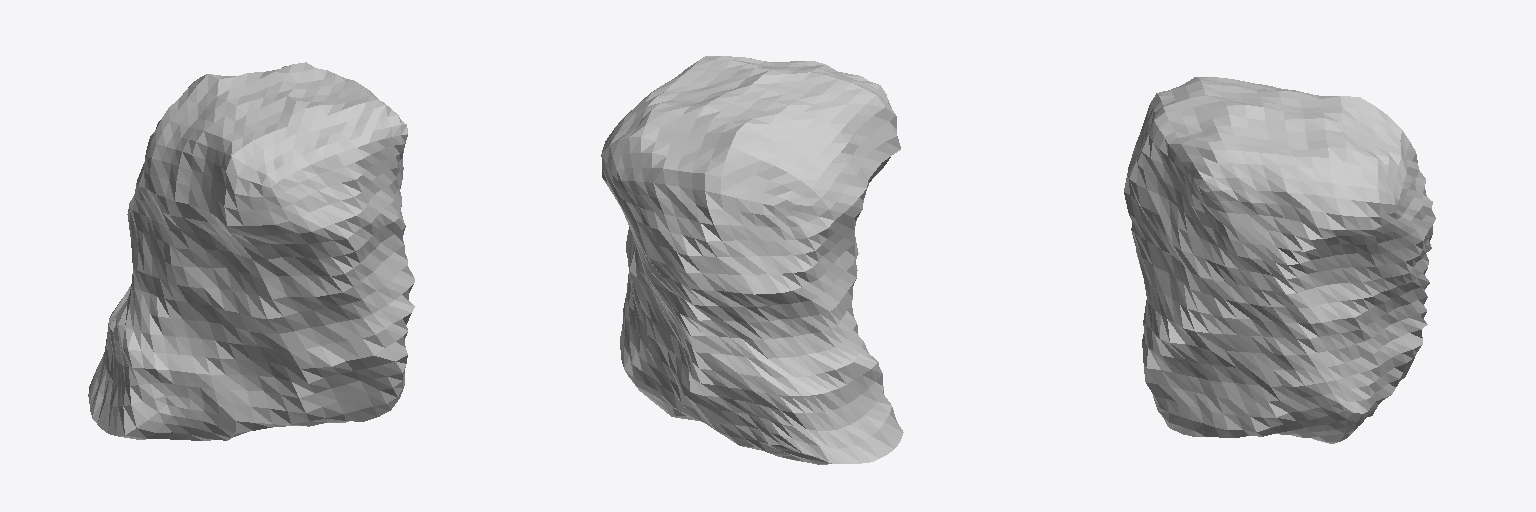
File: asteroid_004.obj
3 views of the same model, side by side, from view 1: azimuth 30°, elevation 25°; view 2: azimuth 150°, elevation 25°; view 3: azimuth 270°, elevation 25° (orthographic).
Parts seen in each view (by area): view 1: rock; view 2: rock; view 3: rock.
Boxes of the visible parts, x1,y1,x2,y2 form: rock: [88, 62, 414, 440]; rock: [601, 56, 903, 464]; rock: [1124, 77, 1435, 443].
Size of the model in its own units: 2.66 by 3.01 by 2.62.